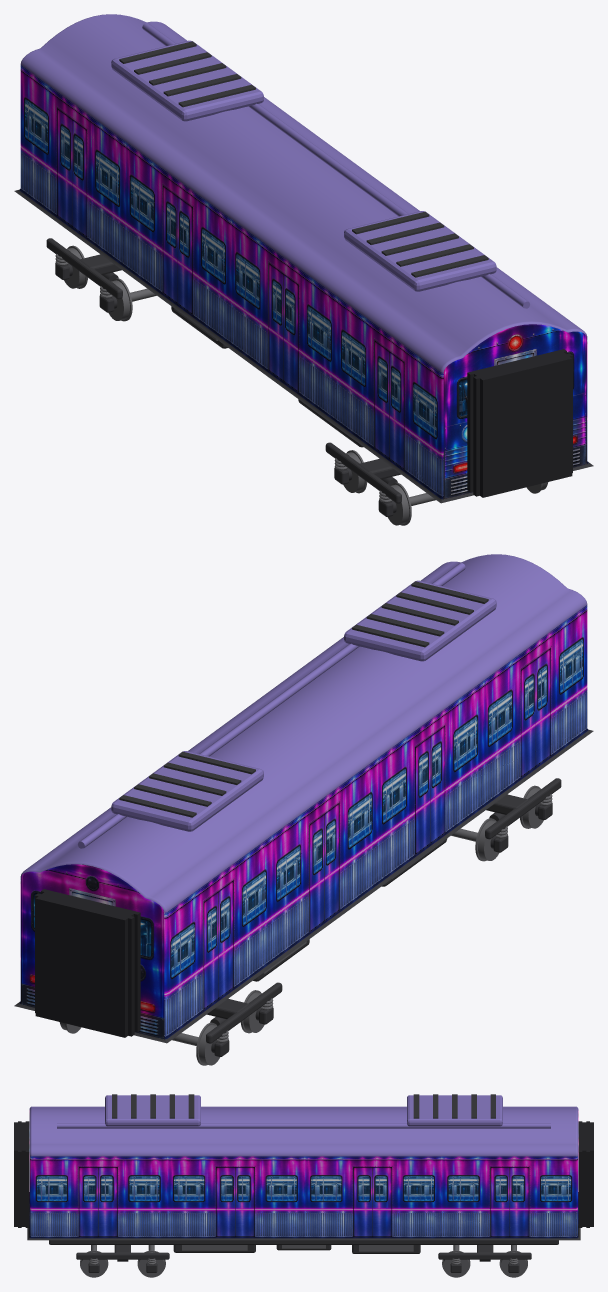
The model's file is train.glb.
3 views of the same model, one above another, from view 1: azimuth 30°, elevation 25°; view 2: azimuth 150°, elevation 25°; view 3: azimuth 270°, elevation 25° (orthographic). The views are drawn at different scales.
Visible parts, largest first — view 1: car_front, car_mid; view 2: car_front; view 3: car_front, car_mid.
Boxes of the visible parts, x1=… form: car_front: x1=14, y1=14, x2=593, y2=525; car_mid: x1=467, y1=349, x2=572, y2=497; car_front: x1=14, y1=554, x2=593, y2=1065; car_front: x1=27, y1=1094, x2=593, y2=1277; car_mid: x1=14, y1=1121, x2=29, y2=1227.
Size of the model in its own units: 0.0936 by 0.1205 by 0.4228.
7 materials, 3 textured.
